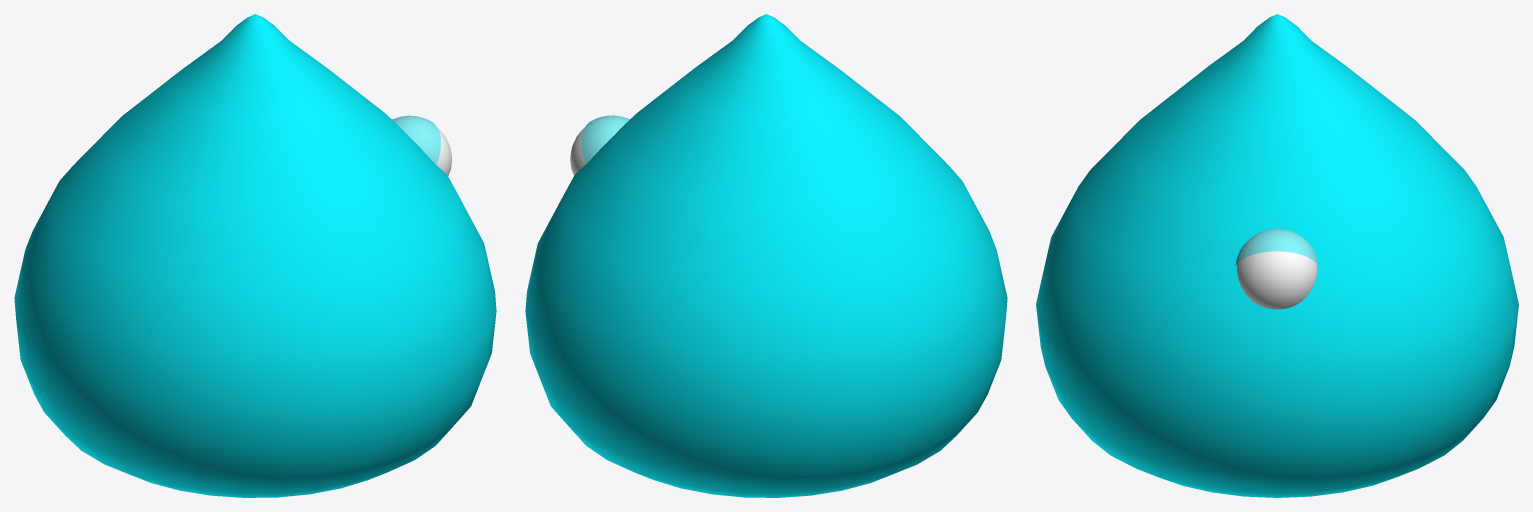
Rendered from LimoSeparado2.fbx.
The picture shows the model from 3 angles, left to right: view 1: azimuth 30°, elevation 25°; view 2: azimuth 150°, elevation 25°; view 3: azimuth 270°, elevation 25°; orthographic projection.
Visible parts, largest first — view 1: Base001, Object001; view 2: Base001, Object001; view 3: Base001, Object002, Object001.
Boxes of the visible parts, <box> form: Base001: <box>14,14,496,497</box>; Object001: <box>392,115,441,164</box>; Base001: <box>525,14,1007,497</box>; Object001: <box>581,115,629,164</box>; Base001: <box>1036,14,1518,497</box>; Object002: <box>1236,251,1317,309</box>; Object001: <box>1235,228,1318,265</box>.
Bounding box in the file's own units: 30 × 29.1 × 30.
